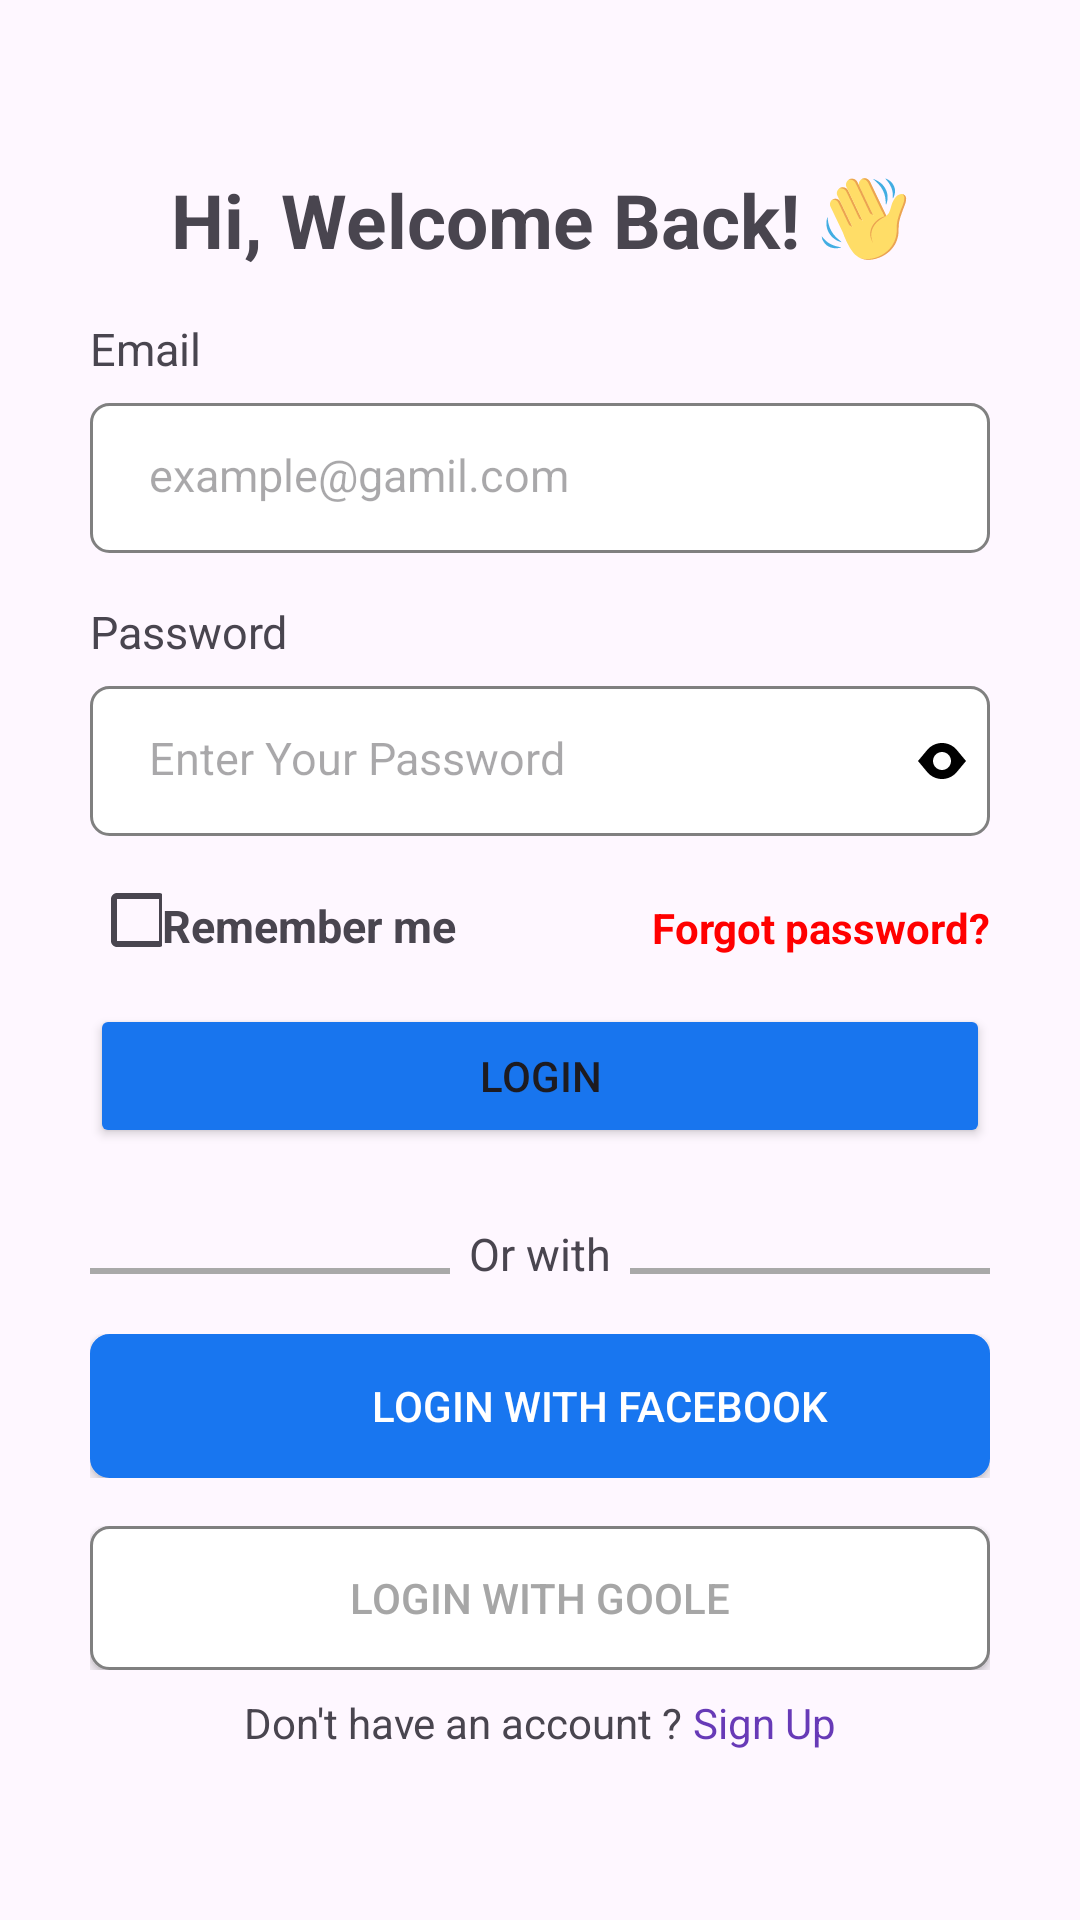

Icons on this 1080 × 1920 Android screen, each with its box as {"left": x1, "top": y1, "right": x2, "bottom": y2}:
eye: {"left": 918, "top": 743, "right": 966, "bottom": 779}
